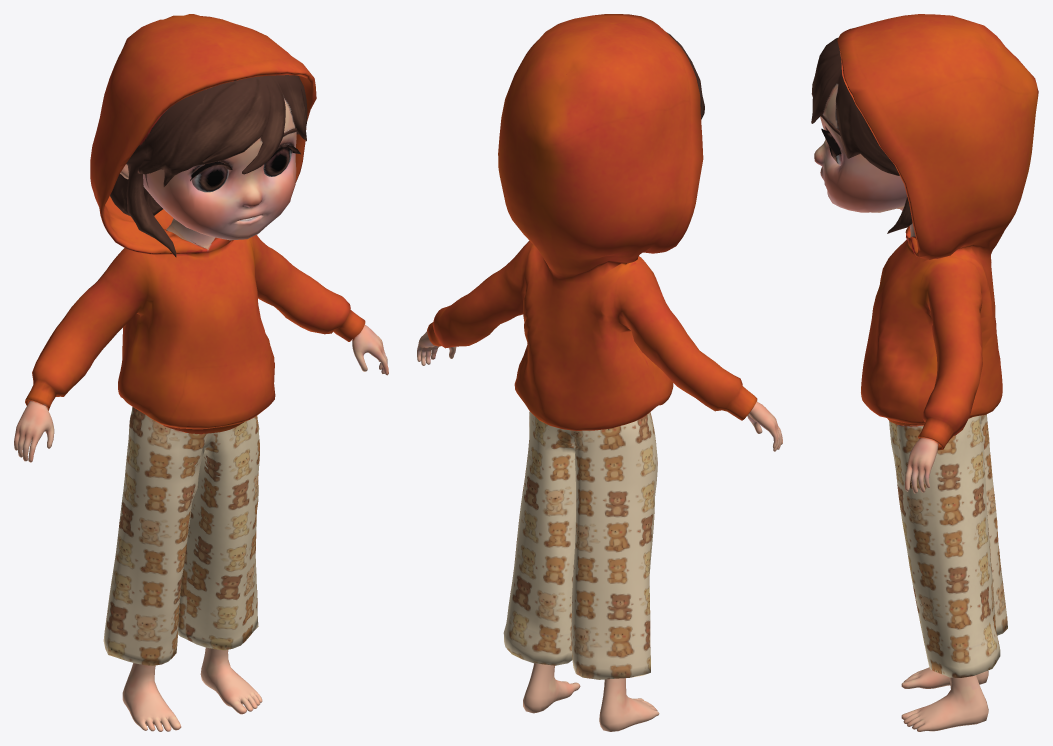
File: charcter_test.fbx
The picture shows the model from 3 angles, left to right: view 1: azimuth 30°, elevation 25°; view 2: azimuth 150°, elevation 25°; view 3: azimuth 270°, elevation 25°; orthographic projection. The views are drawn at different scales.
Visible parts, largest first — view 1: character; view 2: character; view 3: character.
Part boxes in pixels (x1=…): character: x1=14, y1=14, x2=388, y2=731; character: x1=417, y1=14, x2=782, y2=731; character: x1=811, y1=14, x2=1038, y2=731.
Bounding box in the file's own units: 62.77 × 112 × 33.84.
